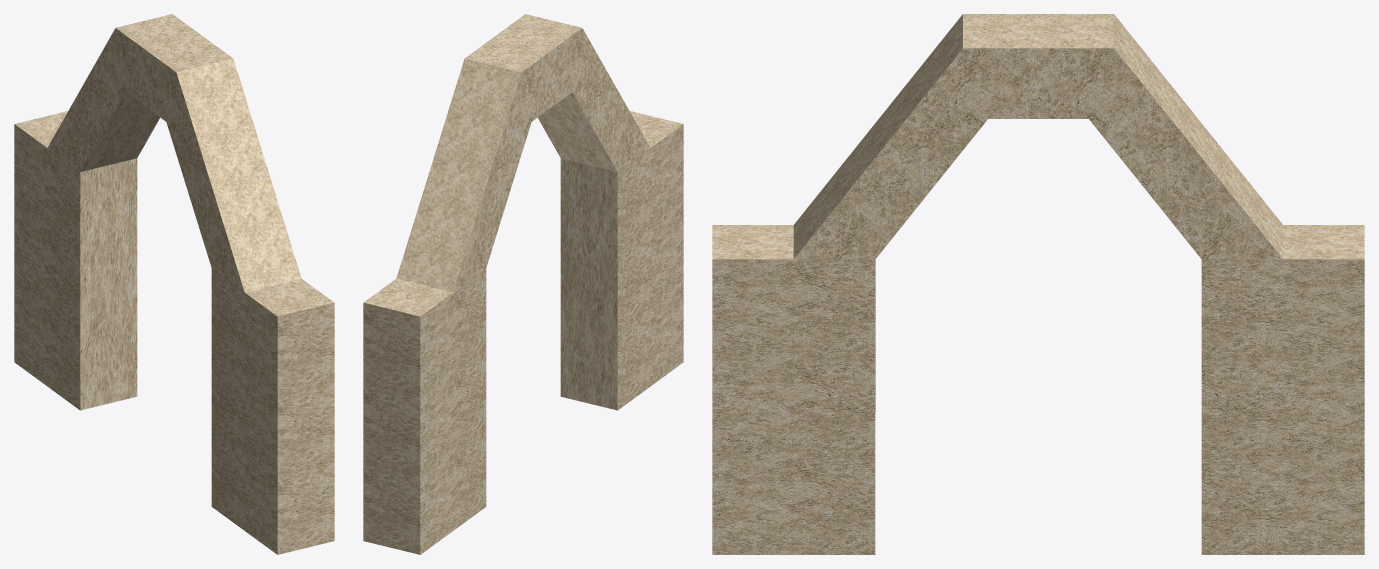
Rendered from thm_tato_imprv_wallgate_s01_l3.fbx.
3 renders of one model, left to right at view 1: azimuth 30°, elevation 25°; view 2: azimuth 150°, elevation 25°; view 3: azimuth 270°, elevation 25°, orthographic. The views are drawn at different scales.
Visible parts, largest first — view 1: mesh_node; view 2: mesh_node; view 3: mesh_node.
Part boxes in pixels (x1=…): mesh_node: x1=14, y1=14, x2=334, y2=554; mesh_node: x1=363, y1=14, x2=683, y2=554; mesh_node: x1=712, y1=14, x2=1364, y2=554.
Bounding box in the file's own units: 1 × 6.85 × 8.
